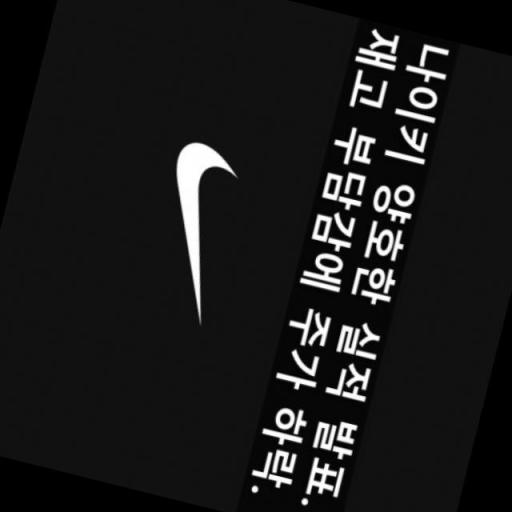Nike: (131, 123, 258, 338)
